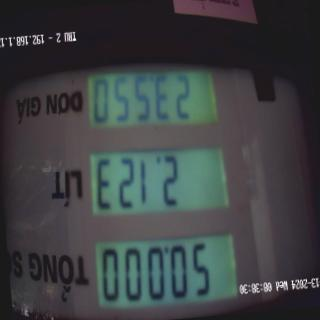screen: (70, 25, 244, 320)
